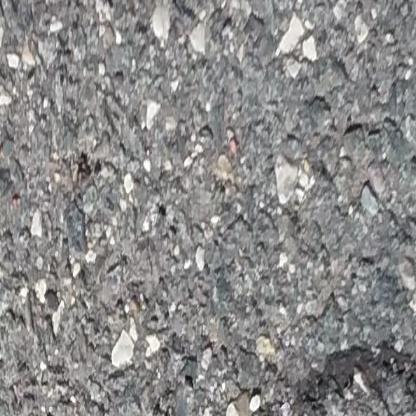Cracks: (253, 331, 416, 416)
